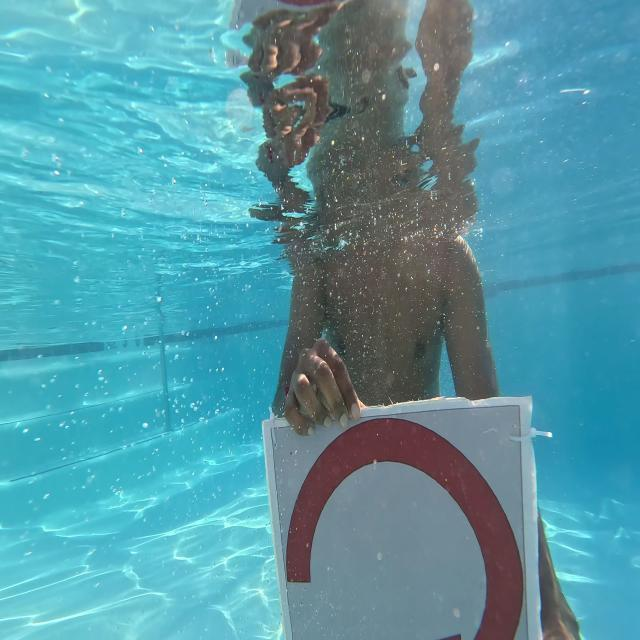red_side: (266, 420, 542, 640)
